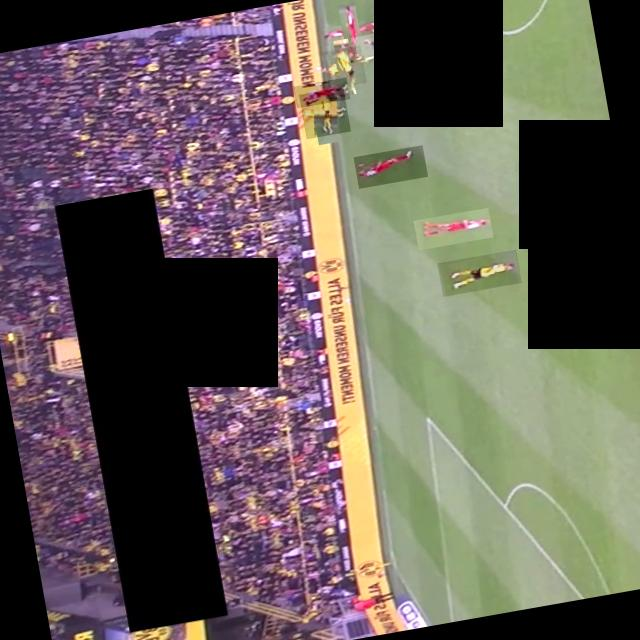referee: (353, 24, 424, 59)
soccer-player: (538, 252, 638, 311), (436, 248, 522, 295), (398, 48, 458, 108), (413, 206, 493, 249), (353, 144, 427, 188), (298, 86, 351, 138), (328, 10, 372, 54), (322, 44, 366, 88), (293, 76, 350, 107)
